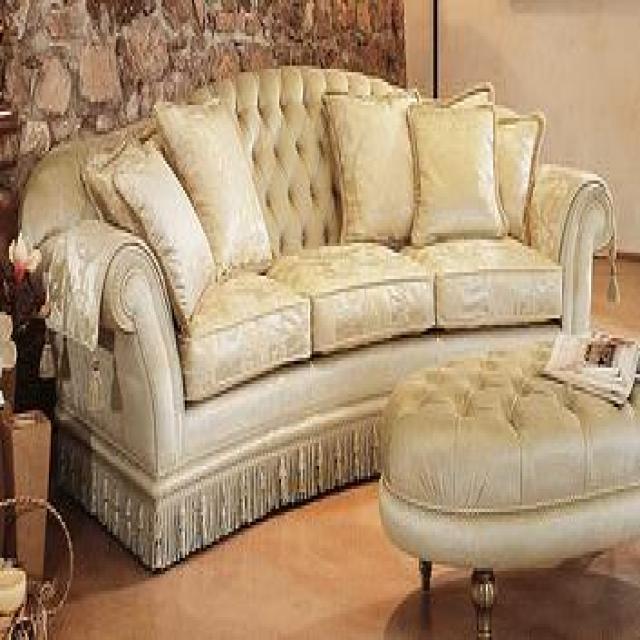sofa: (17, 59, 616, 580)
